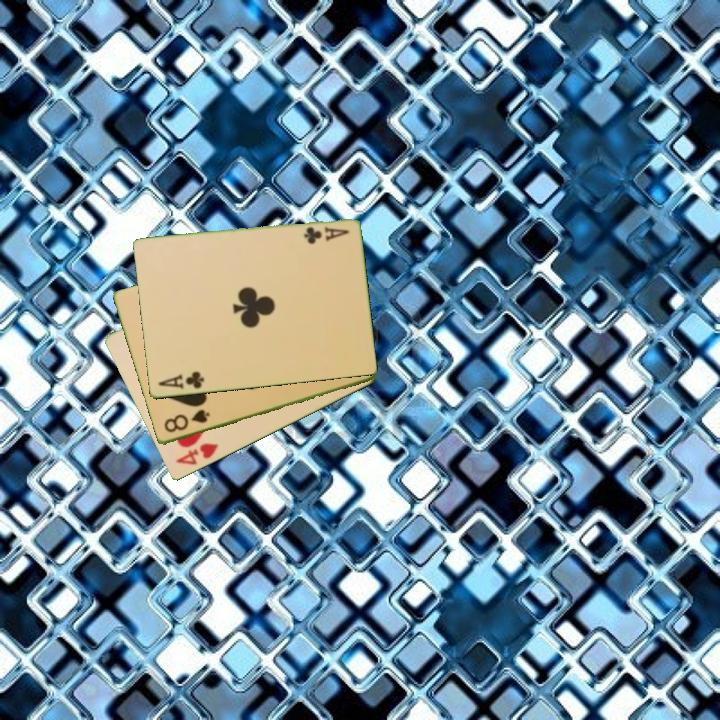4h: (172, 440, 221, 468)
8s: (160, 406, 212, 436)
Ac: (155, 368, 207, 393), (300, 223, 352, 246)
